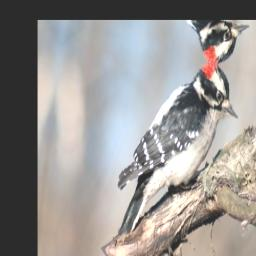Woodpecker: (110, 42, 247, 256)
